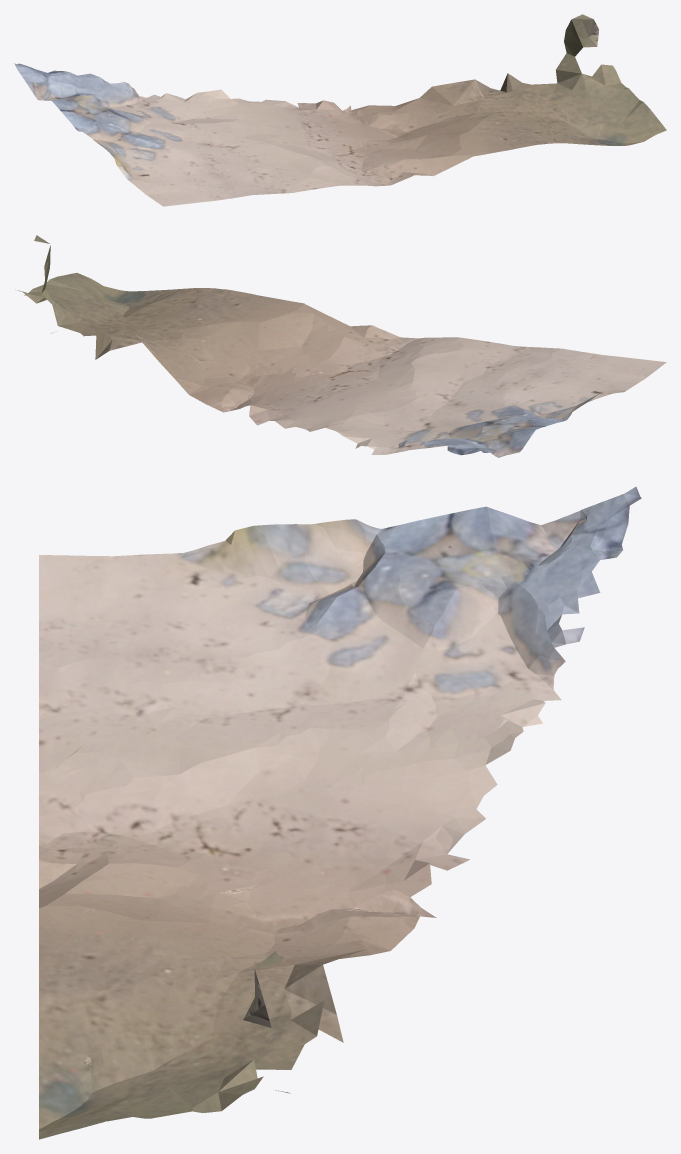
3 renders of one model, top to bottom at view 1: azimuth 30°, elevation 25°; view 2: azimuth 150°, elevation 25°; view 3: azimuth 270°, elevation 25°, orthographic. The views are drawn at different scales.
Bounding box in the file's own units: 8.36 × 1.4 × 4.33.
1 material, 1 textured.
